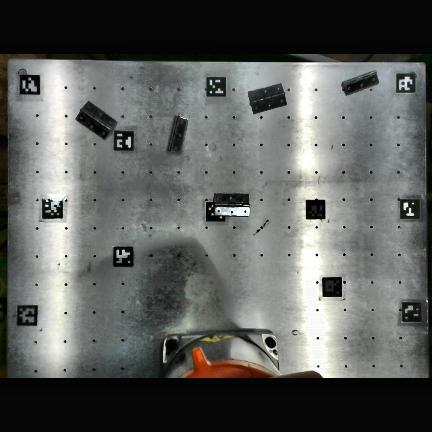hinge: (77, 102, 116, 139), (248, 84, 286, 113), (342, 71, 379, 95), (213, 194, 249, 217), (168, 116, 187, 153)
marker: (17, 304, 38, 325), (400, 198, 420, 219), (42, 198, 62, 218), (113, 246, 133, 266), (114, 130, 134, 150), (206, 75, 226, 95), (205, 202, 225, 222), (403, 300, 422, 321), (20, 75, 40, 94), (396, 73, 415, 93), (306, 200, 325, 219), (323, 278, 342, 296)
